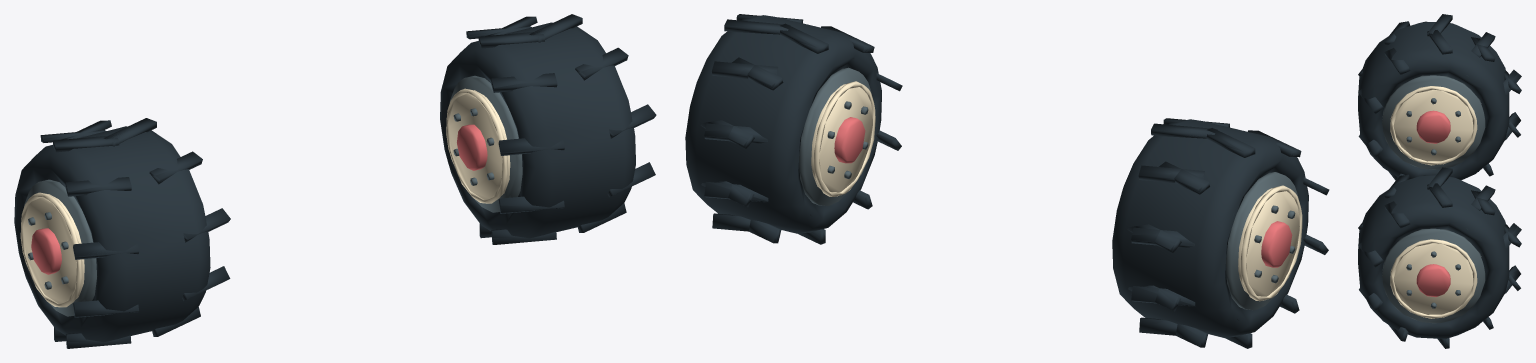
Rendered from broto_wheels_wide_mobile.glb.
The picture shows the model from 3 angles, left to right: view 1: azimuth 30°, elevation 25°; view 2: azimuth 150°, elevation 25°; view 3: azimuth 270°, elevation 25°; orthographic projection. The views are drawn at different scales.
Visible parts, largest first — view 1: WheelR, WheelL; view 2: WheelL, WheelR; view 3: WheelR, WheelL.
Boxes of the visible parts, x1=… form: WheelR: x1=440, y1=14, x2=656, y2=244; WheelL: x1=14, y1=118, x2=230, y2=348; WheelL: x1=1112, y1=118, x2=1329, y2=348; WheelR: x1=685, y1=14, x2=902, y2=244; WheelR: x1=1358, y1=167, x2=1521, y2=348; WheelL: x1=1358, y1=14, x2=1521, y2=180.
Size of the model in its own units: 4.04 by 1.31 by 1.34.
